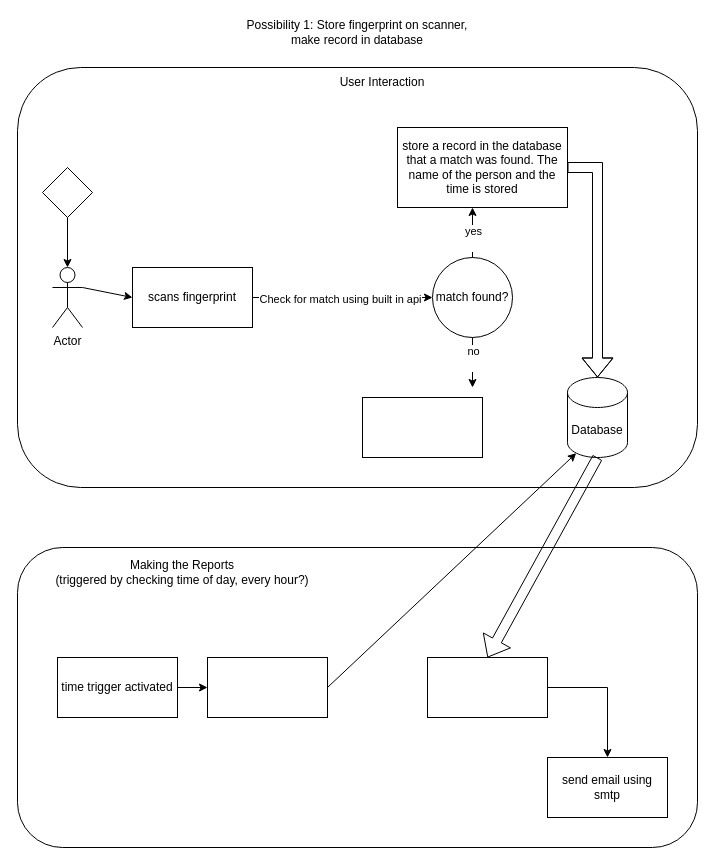
Image size: 715x865. Some labels were removed from this diagram. The shapes that lost their labels are listed below. From the top down, each one's box as (x1, y1, x2, y2) in pixels, then its label:
(42, 166, 92, 218): START
(362, 396, 482, 458): display message on lcd
(206, 656, 328, 718): query database for records
(426, 656, 548, 718): use linux commands to format
